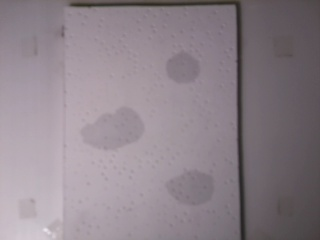Water_detected: (86, 107, 138, 146), (172, 172, 207, 198), (174, 54, 196, 85)
